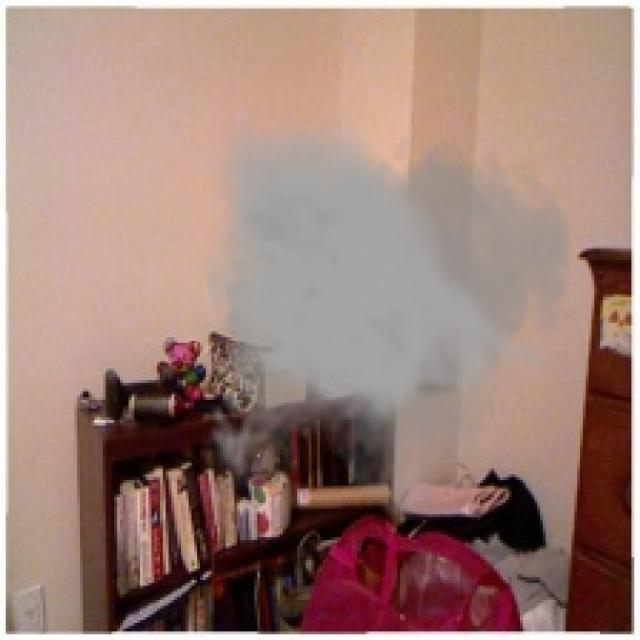smoke: (197, 106, 577, 520)
